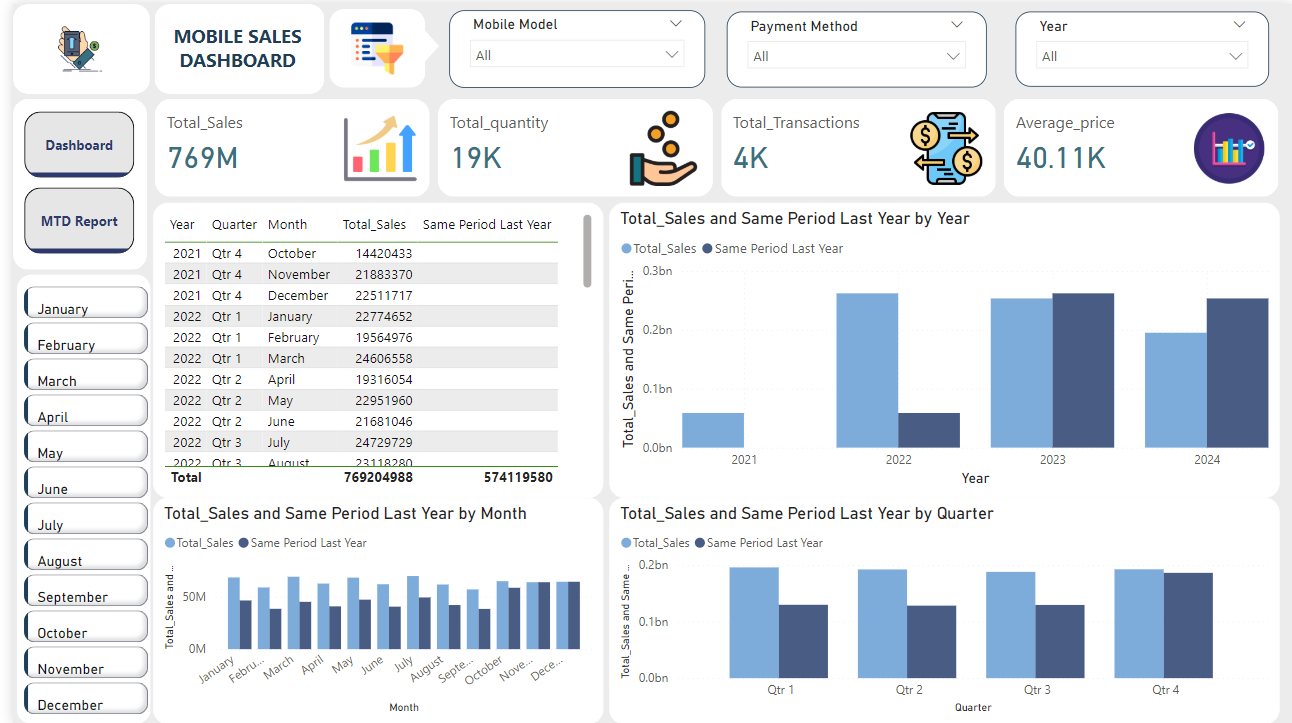

What the dashboard file says about the page in this screenshot:
{"tool":"powerbi","page":{"name":"Same Period Last Year","canvas":[1280,720],"ordinal":2},"visuals":[{"type":"shape","box":[0,0,137.1,90],"z":0},{"type":"image","box":[0,0,134,90],"z":1000},{"type":"shape","box":[0,90,134,176],"z":2000},{"type":"cardVisual","fields":{"Data":["Sales_Data.Total_Sales","Sales_Data.Total_quantity","Sales_Data.Total_Transactions","Avg(Sales_Data.average_price)"]},"box":[134,90,1142,108],"z":3000},{"type":"slicer","fields":{"Values":["Sales_Data.Mobile Model"]},"box":[436.2,6.2,256.2,77.5],"z":4000},{"type":"slicer","fields":{"Values":["Sales_Data.Payment Method"]},"box":[713.8,7.5,260,76.2],"z":5000},{"type":"slicer","fields":{"Values":["Custom_Calendar.Date.Variation.Date Hierarchy.Year"]},"box":[1002.5,7.5,253.8,75],"z":6000},{"type":"shape","box":[316,0,96,84],"z":7000},{"type":"image","box":[326,14,76,62],"z":8000},{"type":"shape","box":[386,20,40,44],"z":9000},{"type":"shape","box":[138,0,178,90],"z":10000},{"type":"textbox","box":[152,14,144,70],"z":11000},{"type":"shape","box":[4,266,134,454],"z":12000},{"type":"advancedSlicerVisual","fields":{"Values":["Custom_Calendar.Date.Variation.Date Hierarchy.Month"]},"box":[6,278,134,442],"z":13000},{"type":"tableEx","fields":{"Values":["Custom_Calendar.Date.Variation.Date Hierarchy.Year","Custom_Calendar.Date.Variation.Date Hierarchy.Quarter","Custom_Calendar.Date.Variation.Date Hierarchy.Month","Sales_Data.Total_Sales","Sales_Data.Same Period Last Year"]},"box":[140,198.3,450,295],"z":14000},{"type":"clusteredColumnChart","fields":{"Category":["Custom_Calendar.Date.Variation.Date Hierarchy.Year","Custom_Calendar.Date.Variation.Date Hierarchy.Quarter","Custom_Calendar.Date.Variation.Date Hierarchy.Month","Custom_Calendar.Date.Variation.Date Hierarchy.Day"],"Y":["Sales_Data.Total_Sales","Sales_Data.Same Period Last Year"]},"box":[596.7,198.3,670,295],"z":15000},{"type":"clusteredColumnChart","fields":{"Category":["Custom_Calendar.Date.Variation.Date Hierarchy.Year","Custom_Calendar.Date.Variation.Date Hierarchy.Quarter","Custom_Calendar.Date.Variation.Date Hierarchy.Month","Custom_Calendar.Date.Variation.Date Hierarchy.Day"],"Y":["Sales_Data.Total_Sales","Sales_Data.Same Period Last Year"]},"box":[140,494,450,226],"z":16000},{"type":"clusteredColumnChart","fields":{"Category":["Custom_Calendar.Date.Variation.Date Hierarchy.Year","Custom_Calendar.Date.Variation.Date Hierarchy.Quarter","Custom_Calendar.Date.Variation.Date Hierarchy.Month","Custom_Calendar.Date.Variation.Date Hierarchy.Day"],"Y":["Sales_Data.Total_Sales","Sales_Data.Same Period Last Year"]},"box":[596,494,670,226],"z":17000},{"type":"pageNavigator","box":[11.7,106.9,110.8,143.9],"z":18000}]}

Visuals, with their boxes in screenshot pixels (x1, y1, x2, y2), scaled from the page's 1280x720 canvas onto the 1292x723 screenshot:
shape: (0,0,138,90)
image: (0,0,135,90)
shape: (0,90,135,267)
cardVisual - Sales_Data.Total_Sales x Sales_Data.Total_quantity: (135,90,1288,199)
slicer - Sales_Data.Mobile Model: (440,6,699,84)
slicer - Sales_Data.Payment Method: (720,8,983,84)
slicer - Custom_Calendar.Date.Variation.Date Hierarchy.Year: (1012,8,1268,83)
shape: (319,0,416,84)
image: (329,14,406,76)
shape: (390,20,430,64)
shape: (139,0,319,90)
textbox: (153,14,299,84)
shape: (4,267,139,722)
advancedSlicerVisual - Custom_Calendar.Date.Variation.Date Hierarchy.Month: (6,279,141,722)
tableEx - Custom_Calendar.Date.Variation.Date Hierarchy.Year x Custom_Calendar.Date.Variation.Date Hierarchy.Quarter: (141,199,596,495)
clusteredColumnChart - Custom_Calendar.Date.Variation.Date Hierarchy.Year x Custom_Calendar.Date.Variation.Date Hierarchy.Quarter: (602,199,1279,495)
clusteredColumnChart - Custom_Calendar.Date.Variation.Date Hierarchy.Year x Custom_Calendar.Date.Variation.Date Hierarchy.Quarter: (141,496,596,722)
clusteredColumnChart - Custom_Calendar.Date.Variation.Date Hierarchy.Year x Custom_Calendar.Date.Variation.Date Hierarchy.Quarter: (602,496,1278,722)
pageNavigator: (12,107,124,252)
